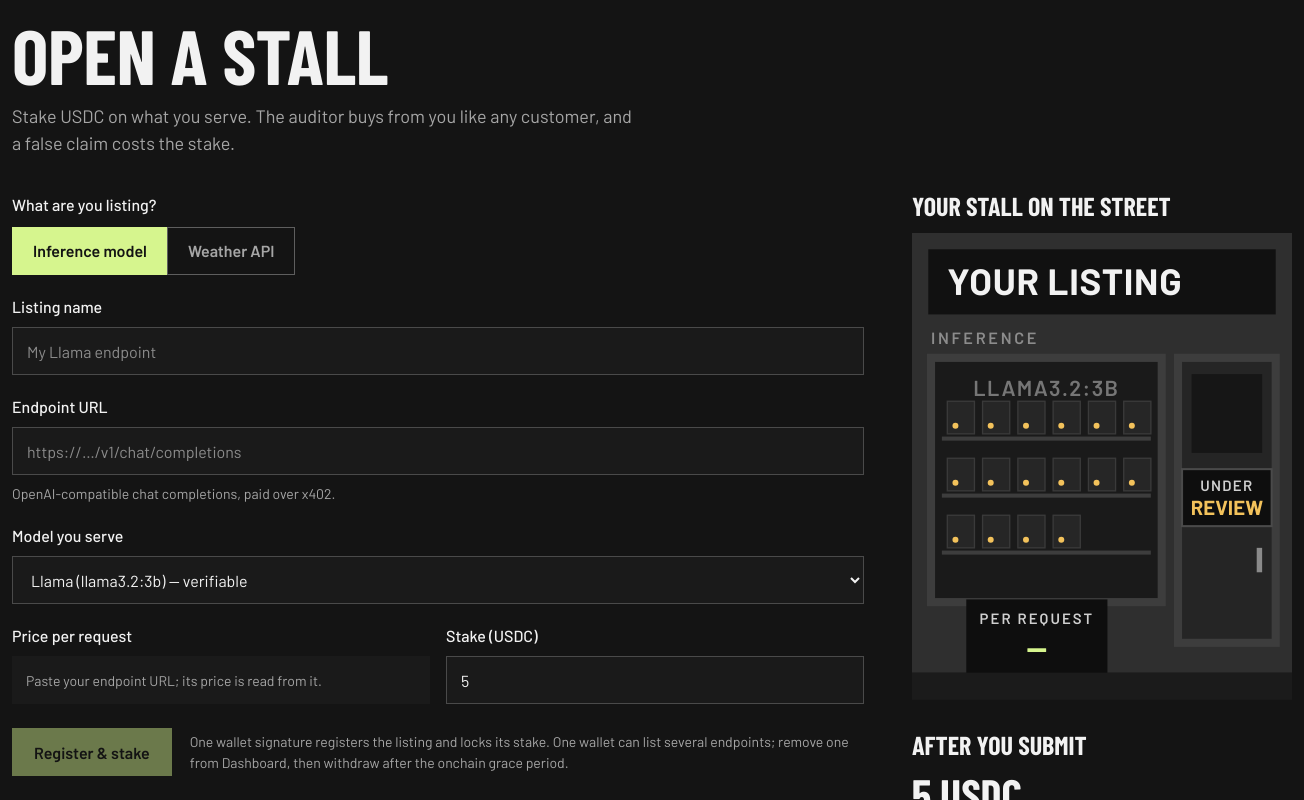
Scenario: explains an endpoint that is not paywalled and keeps submit disabled
Type "http://localhost:9999/v1/chat/completions" into the field labelled "Endpoint URL" at (438,451), box [12,427,864,475]
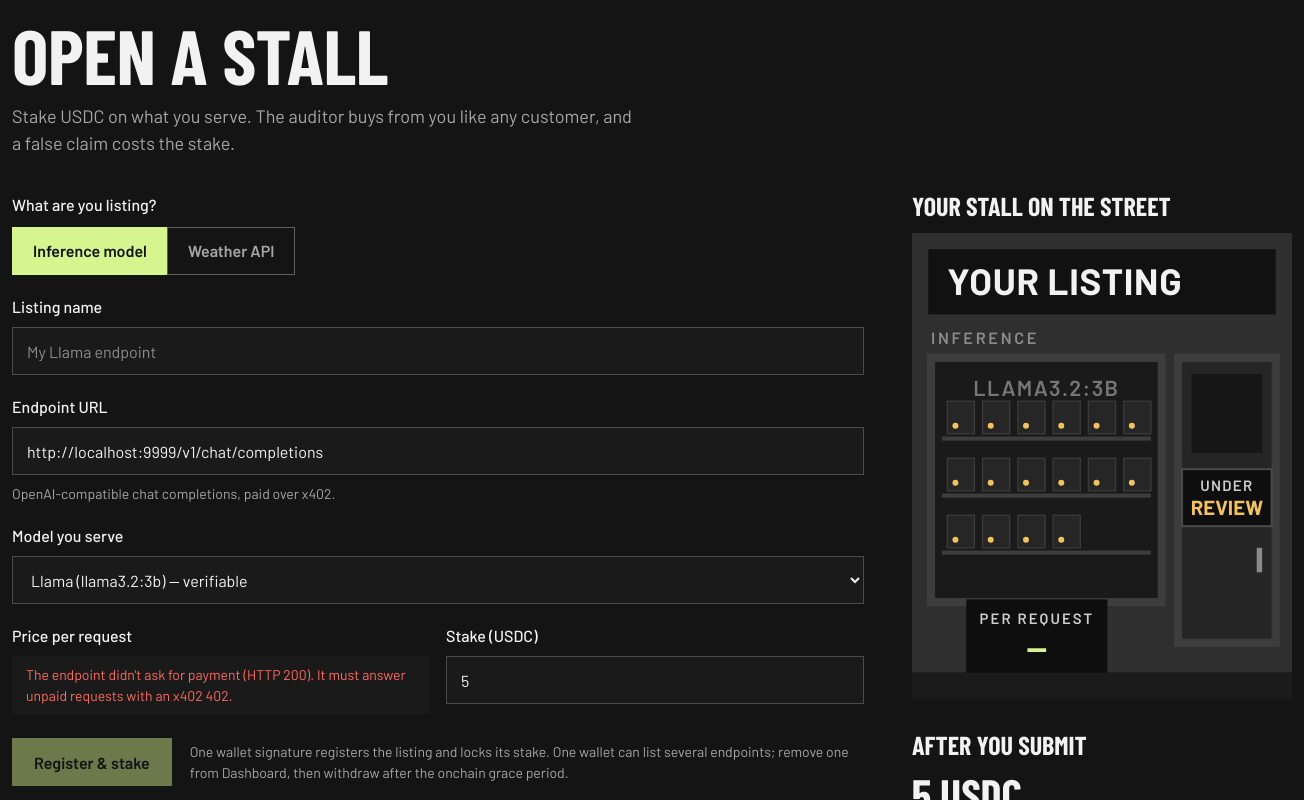
Expected: the button "Register & stake" is disabled, [12,738,172,786]
Expected: the text "didn't ask for payment" is shown, [26,666,406,704]
